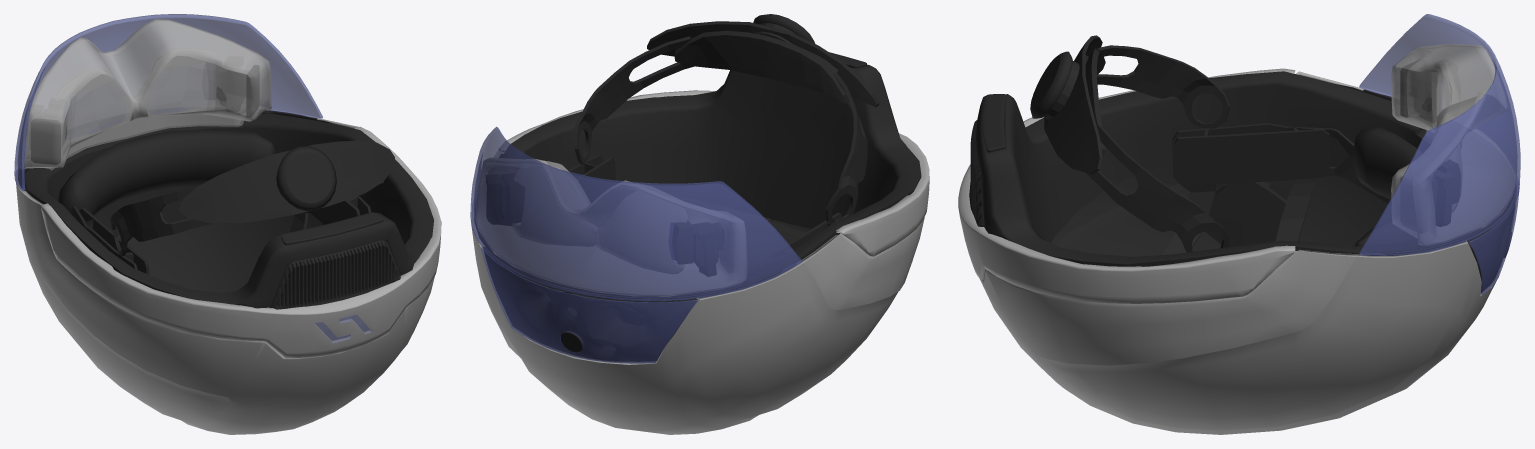
File: DESmartHelmet.fbx
The picture shows the model from 3 angles, left to right: view 1: azimuth 30°, elevation 25°; view 2: azimuth 150°, elevation 25°; view 3: azimuth 270°, elevation 25°; orthographic projection. The views are drawn at different scales.
Parts seen in each view (by area): view 1: innerShell_geo, shell_geo, goggle_geo, rearBand_geo, frontShield_geo, lenseHolder_geo, L7_geo; view 2: innerShell_geo, shell_geo, frontShield_geo, goggle_geo, upperShield_geo, upperPanel_geo, outerLense_geo, rearBand_geo, lenseHolder_geo; view 3: shell_geo, innerShell_geo, frontShield_geo, goggle_geo, rearBand_geo, upperShield_geo, lenseHolder_geo, upperPanel_geo.
Part boxes in pixels (x1,y1,x2,y2): innerShell_geo: (18,110,433,309); shell_geo: (15,118,434,434); goggle_geo: (19,19,271,170); rearBand_geo: (40,126,441,357); frontShield_geo: (14,14,322,191); lenseHolder_geo: (31,65,259,164); L7_geo: (315,314,371,342); innerShell_geo: (474,14,921,301); shell_geo: (471,151,924,434); frontShield_geo: (470,126,802,301); goggle_geo: (476,158,746,296); upperShield_geo: (481,247,697,363); upperPanel_geo: (483,247,697,361); outerLense_geo: (512,167,687,273); rearBand_geo: (498,90,929,256); lenseHolder_geo: (486,173,725,276); shell_geo: (980,71,1500,434); innerShell_geo: (969,35,1514,266); frontShield_geo: (1359,14,1520,255); goggle_geo: (1391,44,1515,245); rearBand_geo: (958,68,1295,303); upperShield_geo: (1468,177,1519,295); lenseHolder_geo: (1400,59,1460,226); upperPanel_geo: (1467,184,1516,292).
Size of the model in its own units: 23.28 by 20.95 by 29.63.
